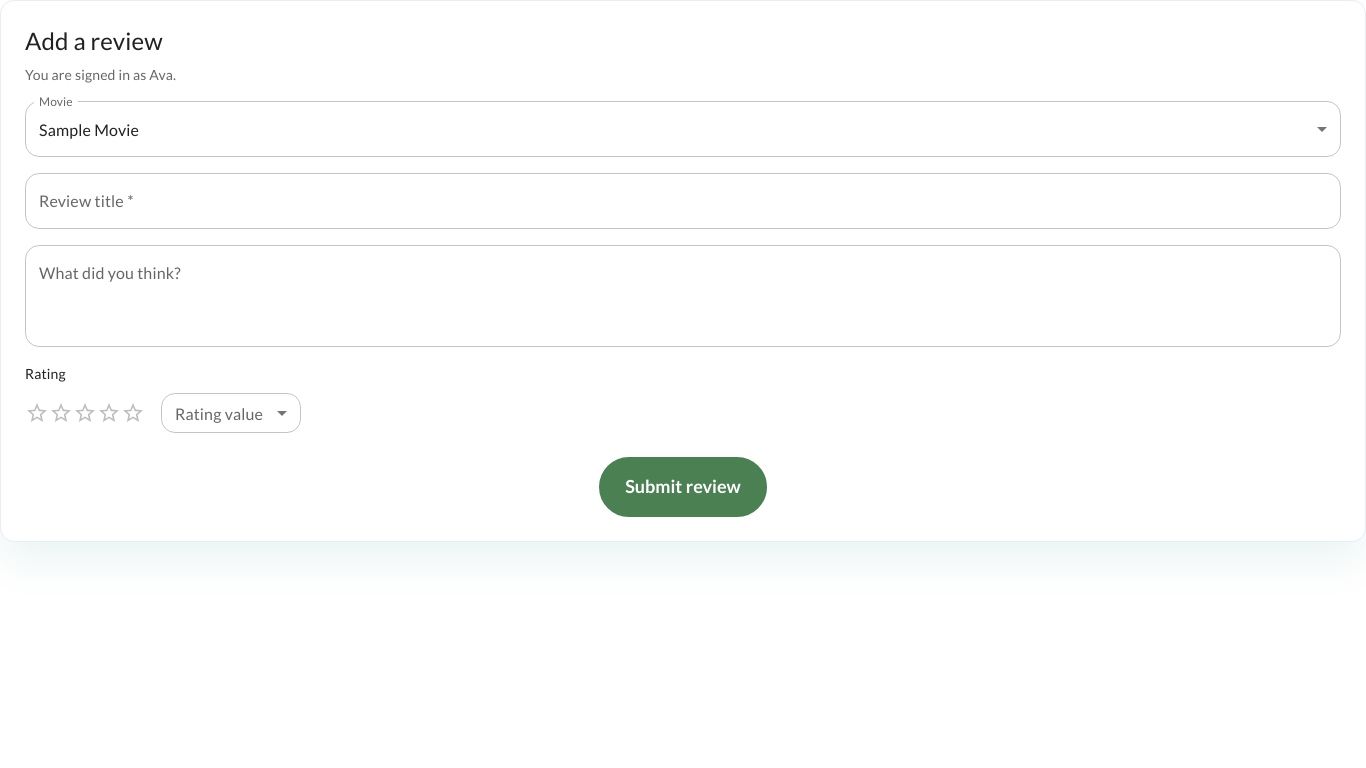
Test: ReviewForm › shows validation cues when required fields are missing
Click the button "Submit review". click: [683, 487]
box: 599,457 -> 767,517
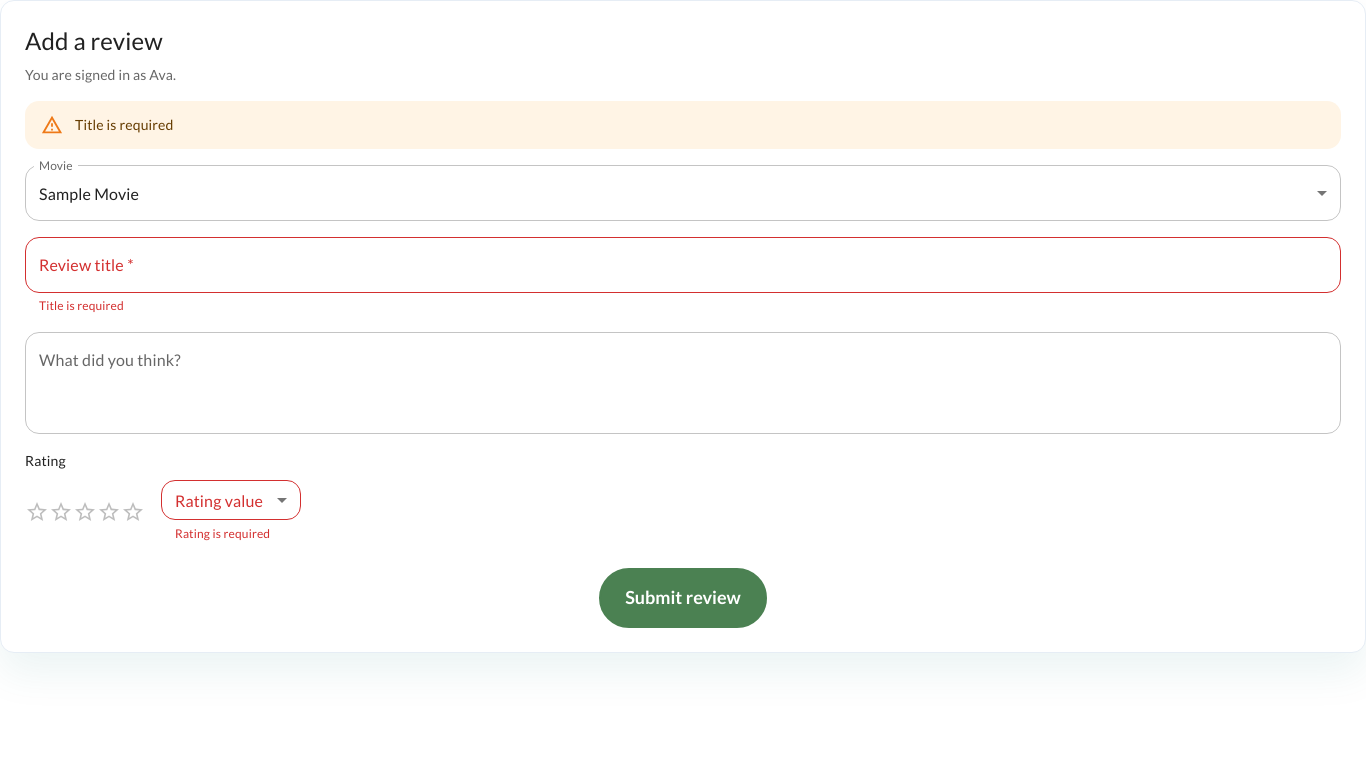
Expected: the 1st text "Title is required" is shown, 75,116 -> 174,133
